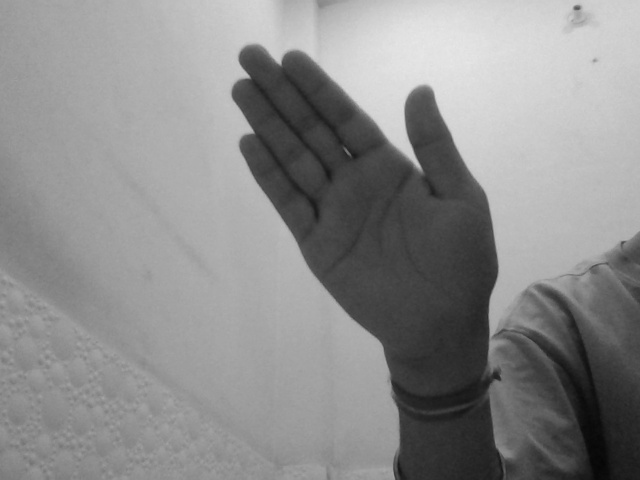Hello: (224, 38, 506, 377)
